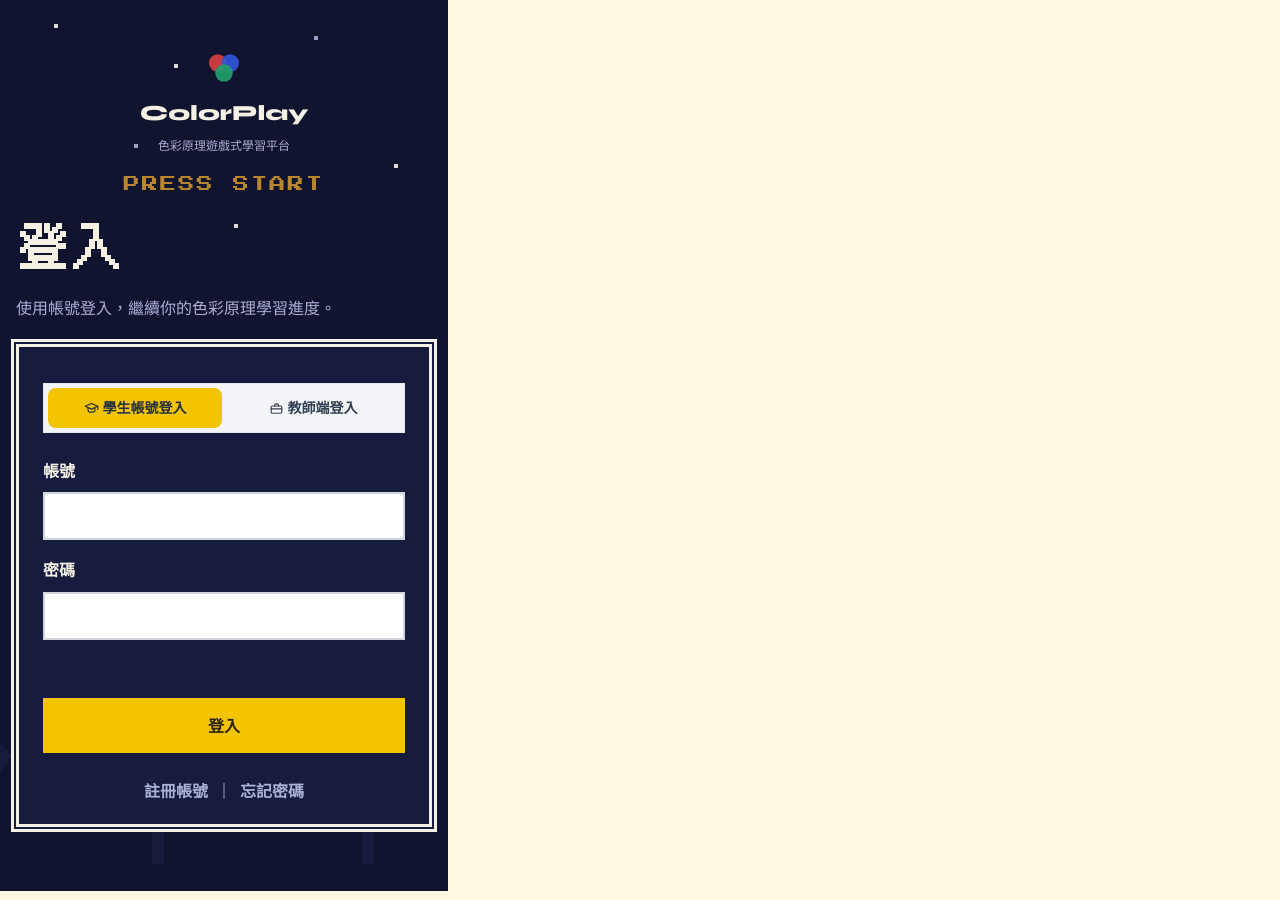
Test: LoginPage › locks a pending submission to one request
Type "learner@colorplay.invalid" into the field labelled "帳號" at (224,516), box [43,492,405,540]
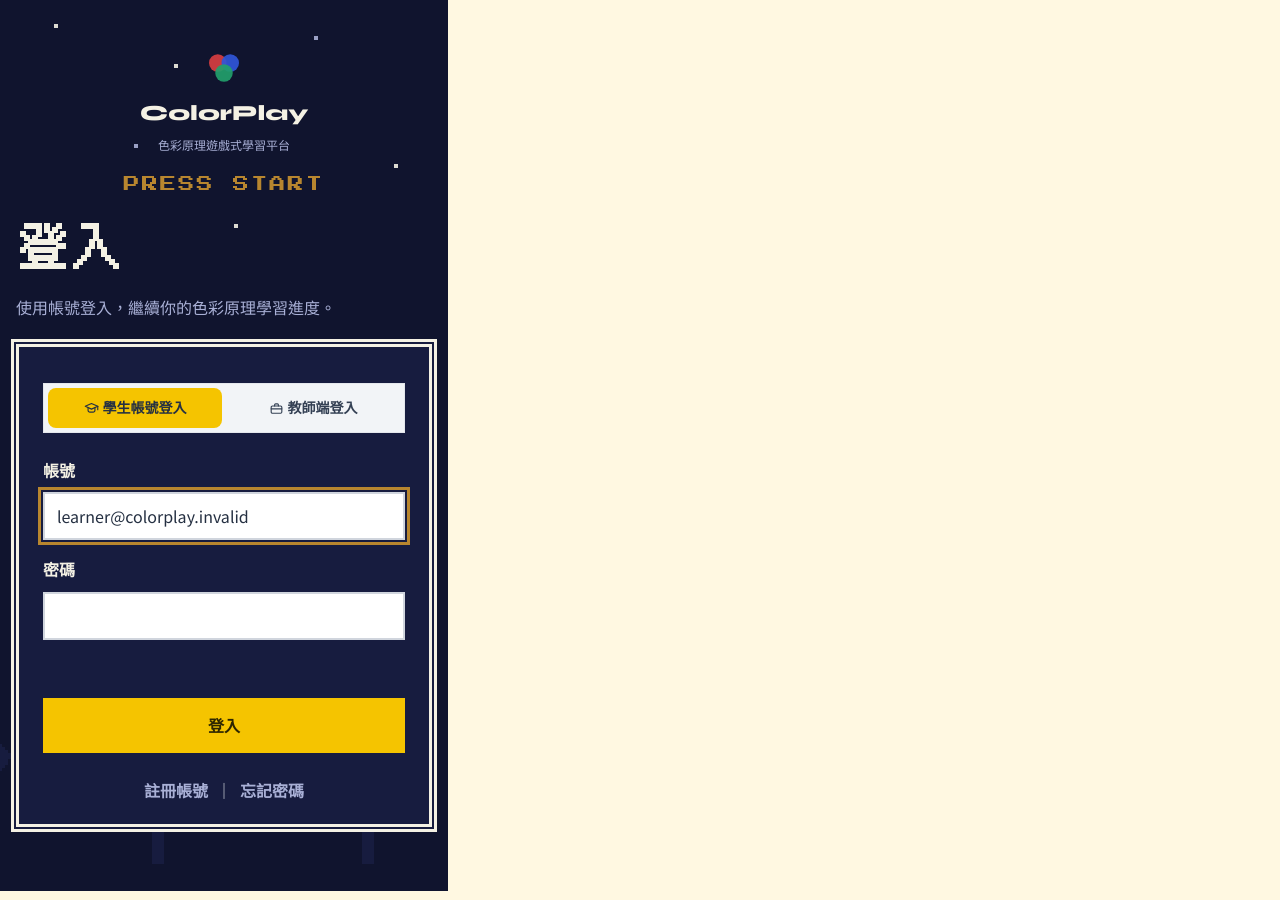
Type "fixture-password" into the password field labelled "密碼" at (224,616), box [43,592,405,640]
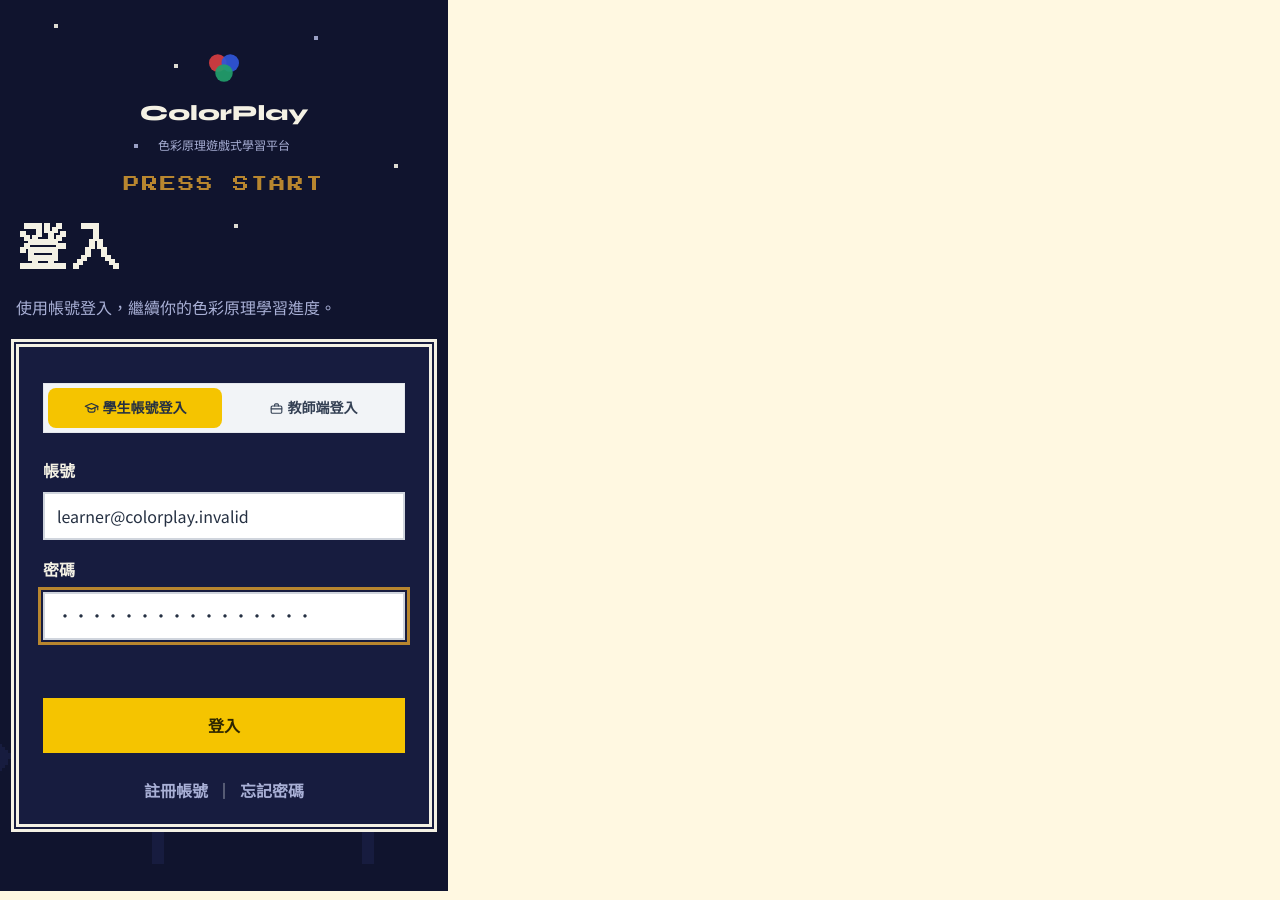
Click the button "登入" at (224,725), box [43,698,405,753]
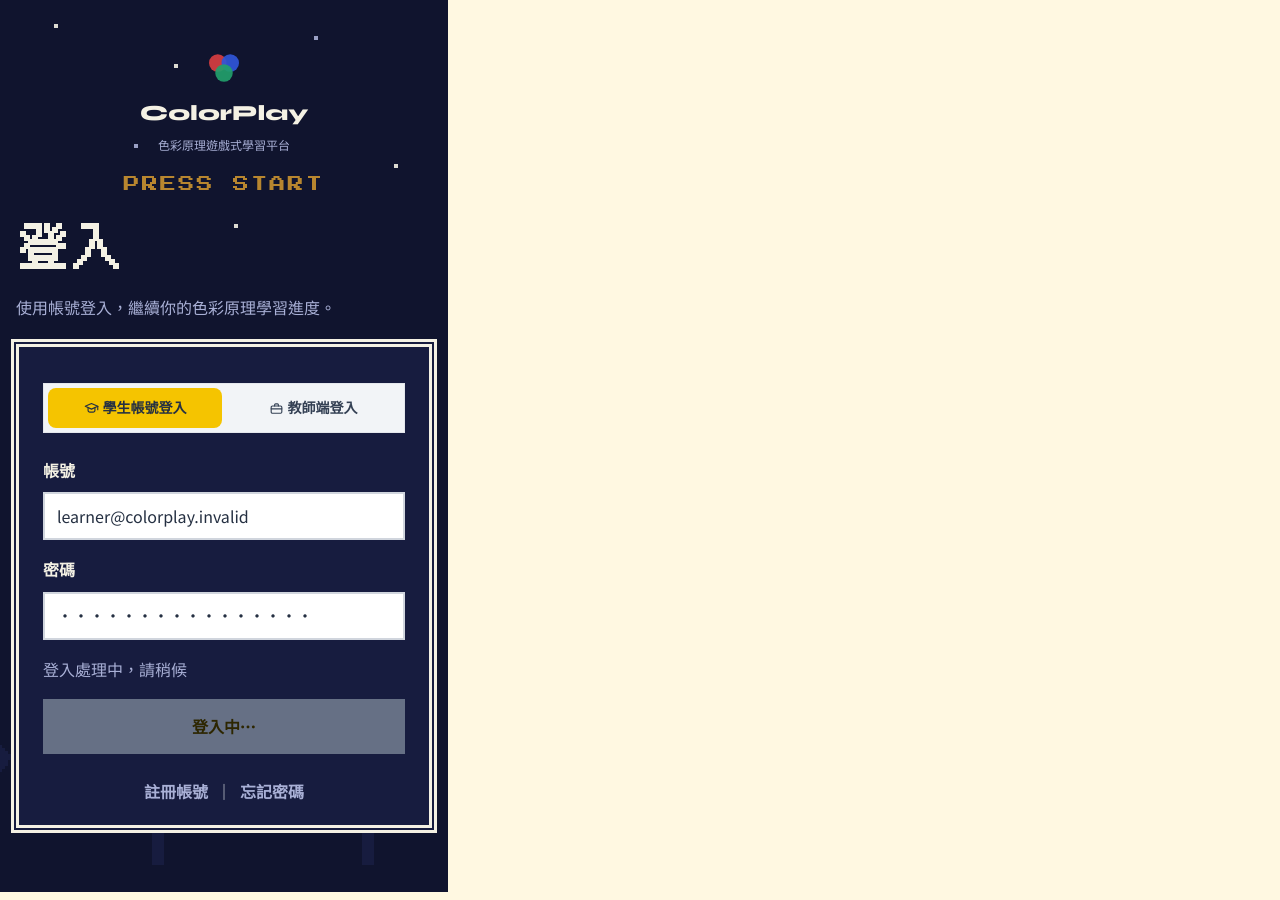
Now the button "登入中…" is disabled
Now the message reads "登入處理中，請稍候", box [43,656,187,680]
Click the button "登入中…" at (224,726), box [43,699,405,754]
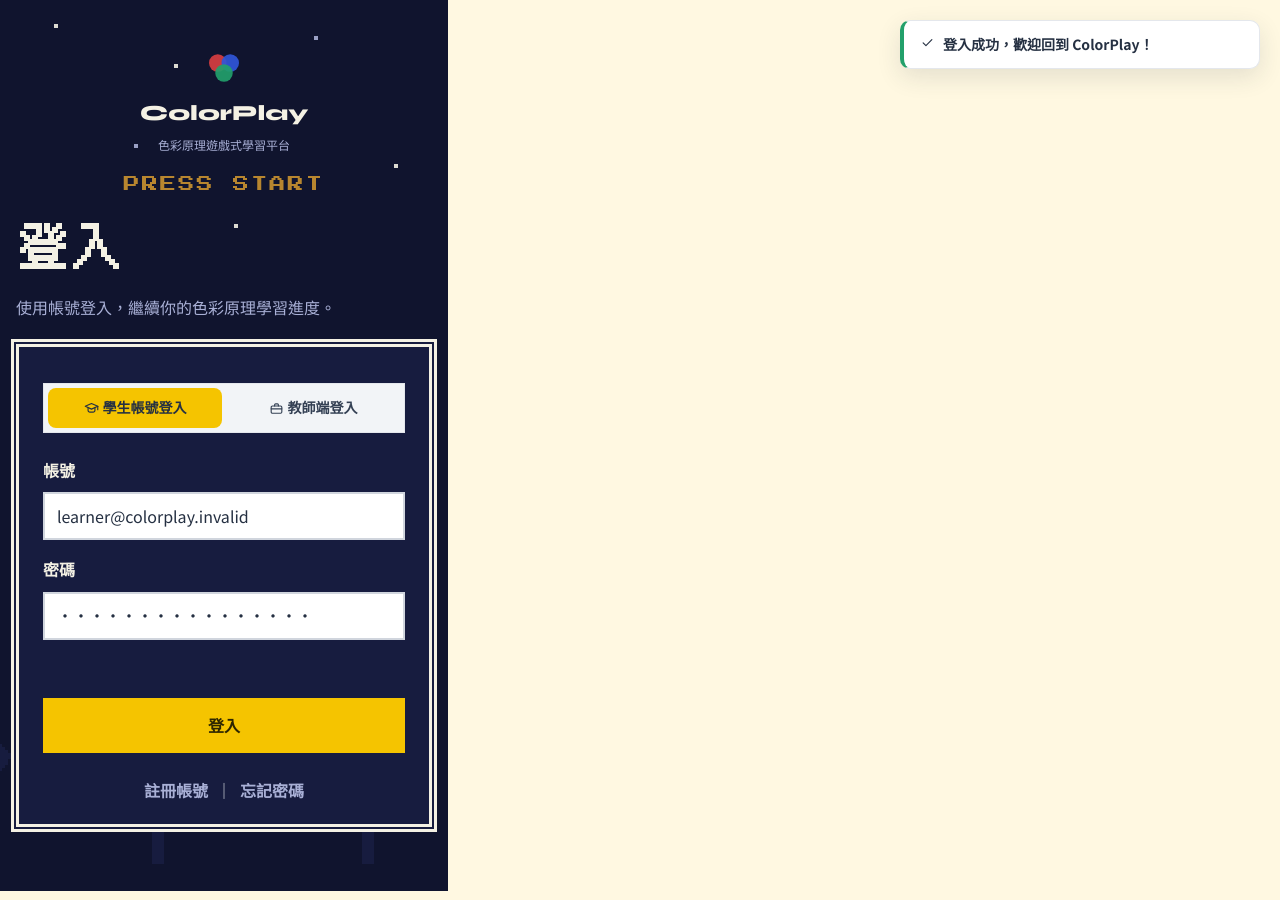
Now the button "登入" is enabled, box [43,698,405,753]
